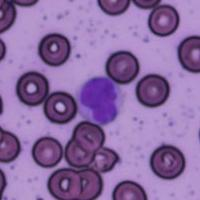M: (76, 75, 124, 125)
